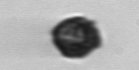plankton: (48, 13, 106, 60)
